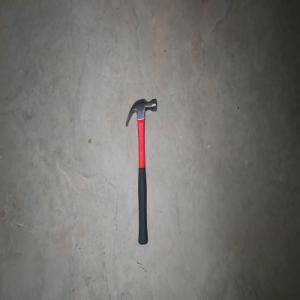Hammer: (124, 97, 157, 245)
